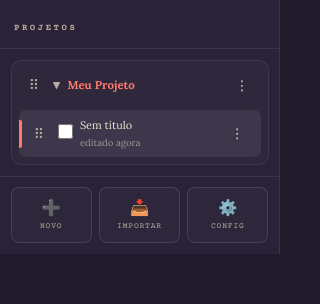
Test: ProjectsSidebar + useProjects › upload › offers a single "Upload" menu item — no separate multi-file import item
Click the button named "Mais opções do projeto Meu Projeto". click: (242, 86)
box: [227,71,257,101]
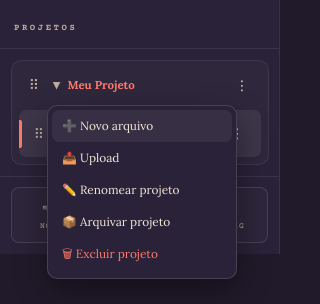
Result: the number of menu items "📤 Upload" is 1 at [52,142,232,173]
Result: the menu item "📤 Upload" is shown at [52,142,232,173]
